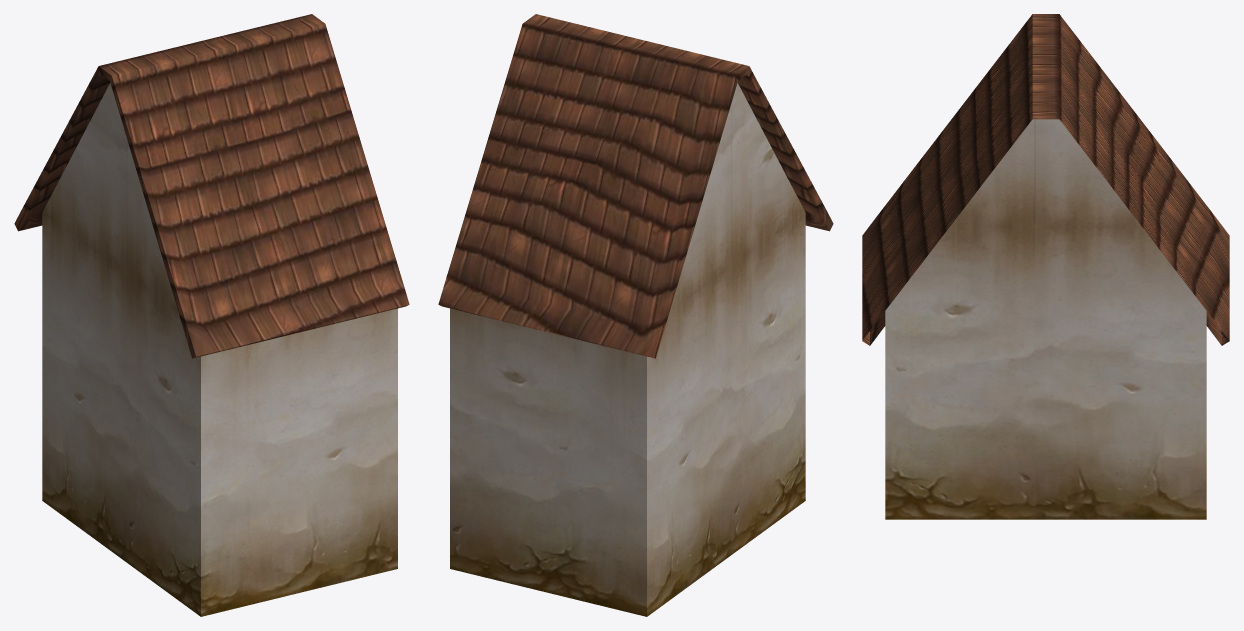
File: House_Side.fbx
3 renders of one model, left to right at view 1: azimuth 30°, elevation 25°; view 2: azimuth 150°, elevation 25°; view 3: azimuth 270°, elevation 25°, orthographic.
Visible parts, largest first — view 1: pCube5; view 2: pCube5; view 3: pCube5.
Part boxes in pixels (x1,y1,x2,y2): pCube5: (14, 14, 409, 616); pCube5: (438, 14, 833, 616); pCube5: (862, 14, 1229, 519).
Bounding box in the file's own units: 7.19 × 15.83 × 10.6.
